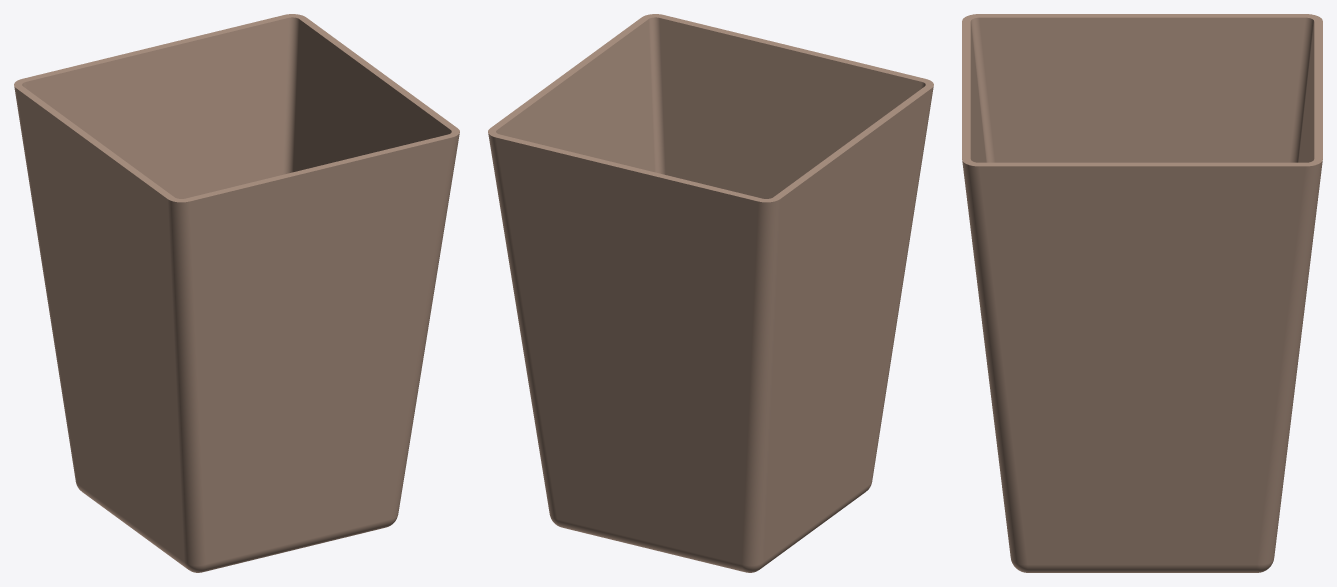
The model's file is ゴミ箱.fbx.
The picture shows the model from 3 angles, left to right: view 1: azimuth 30°, elevation 25°; view 2: azimuth 150°, elevation 25°; view 3: azimuth 270°, elevation 25°; orthographic projection. The views are drawn at different scales.
Parts seen in each view (by area): view 1: Body; view 2: Body; view 3: Body.
Boxes of the visible parts, x1,y1,x2,y2 form: Body: [14, 14, 459, 572]; Body: [488, 14, 933, 572]; Body: [962, 14, 1322, 572].
Bounding box in the file's own units: 20.78 × 27.5 × 20.78.
